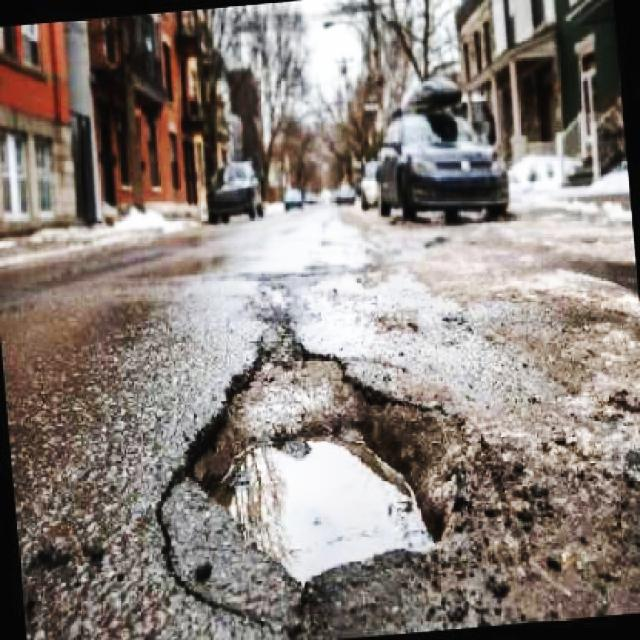pothole: (152, 280, 511, 600)
